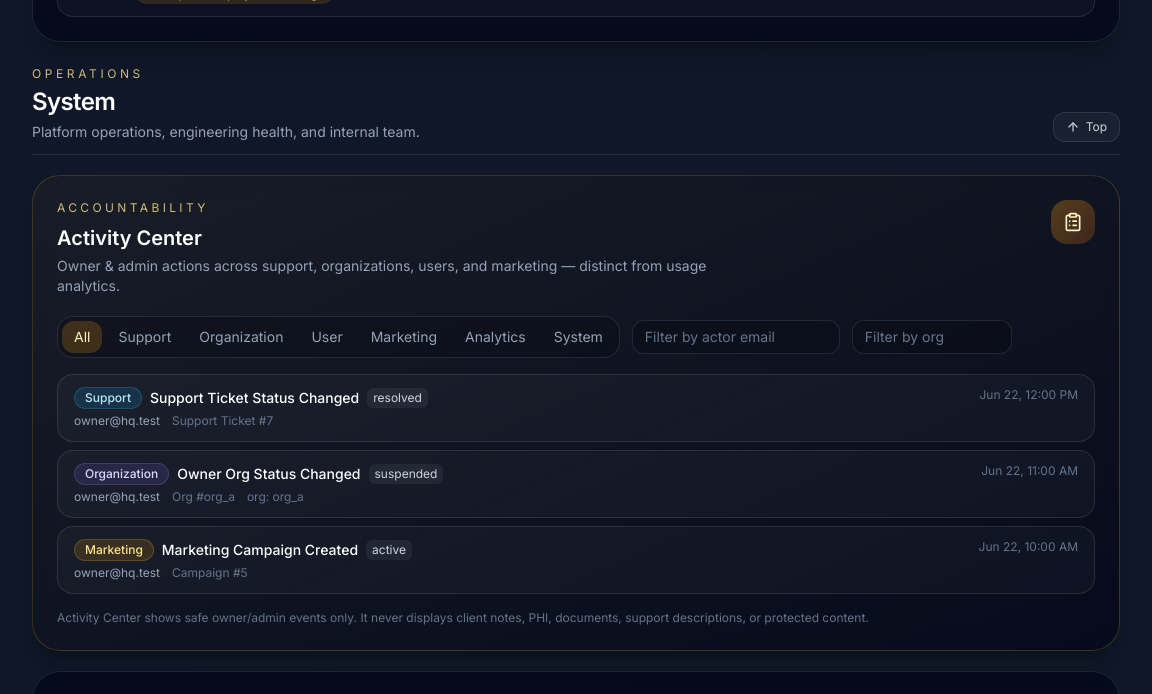
Test case: Owner Cockpit Activity Center › filters by source via the source toggle
The width and height of the screenshot is (1152, 694).
(page scrolled)
Expected: the text "Marketing Campaign Created" is shown, [162,540,358,560]
Click the button "Marketing" at (404,337), box [359,321,449,353]
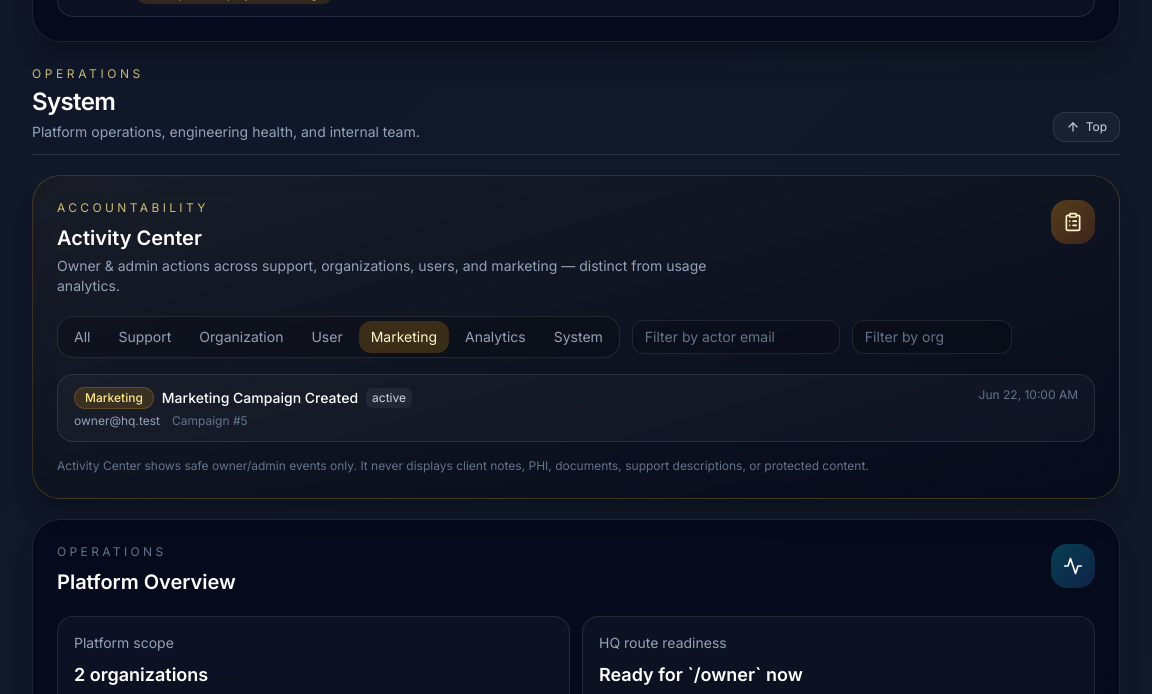
Expected: the text "Marketing Campaign Created" is shown, [162,388,358,408]
Now the text "Owner Org Status Changed" is gone
